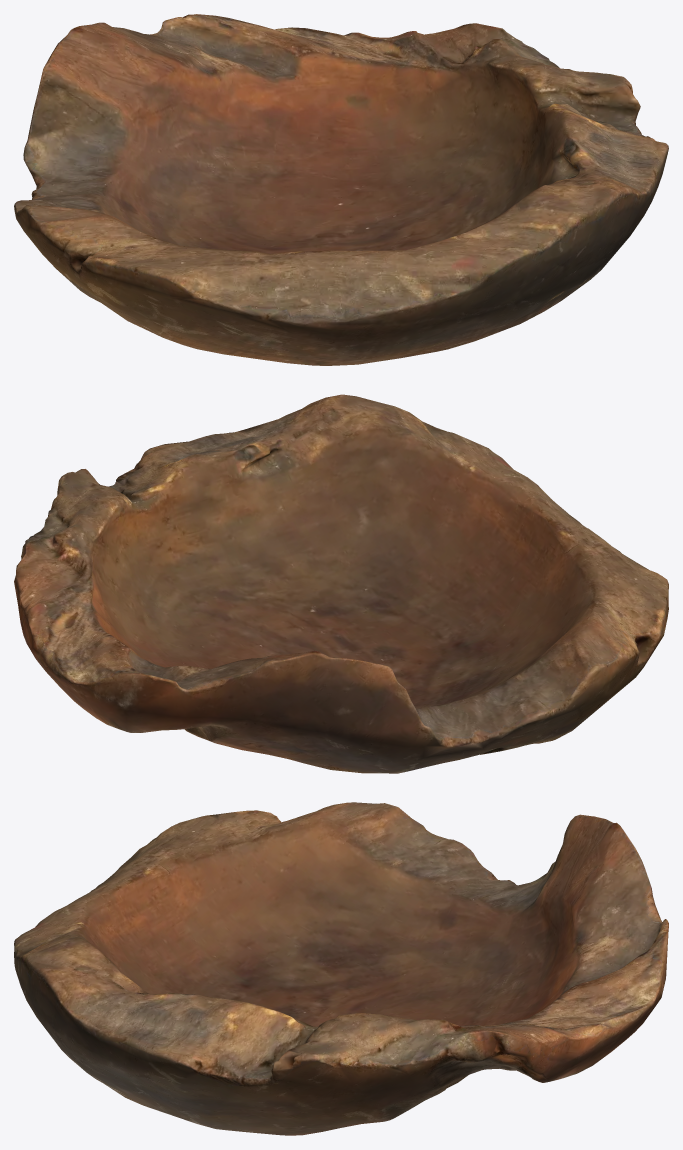
Rendered from wooden_bowl_01.glb.
3 views of the same model, one above another, from view 1: azimuth 30°, elevation 25°; view 2: azimuth 150°, elevation 25°; view 3: azimuth 270°, elevation 25° (orthographic). The views are drawn at different scales.
Visible parts, largest first — view 1: wooden_bowl_01; view 2: wooden_bowl_01; view 3: wooden_bowl_01.
Part boxes in pixels (x1,y1,x2,y2): wooden_bowl_01: (14, 14, 668, 365); wooden_bowl_01: (14, 394, 668, 773); wooden_bowl_01: (14, 802, 668, 1135).
Bounding box in the file's own units: 0.313 × 0.0937 × 0.3092.
Materials: 1 (1 with a texture image).
